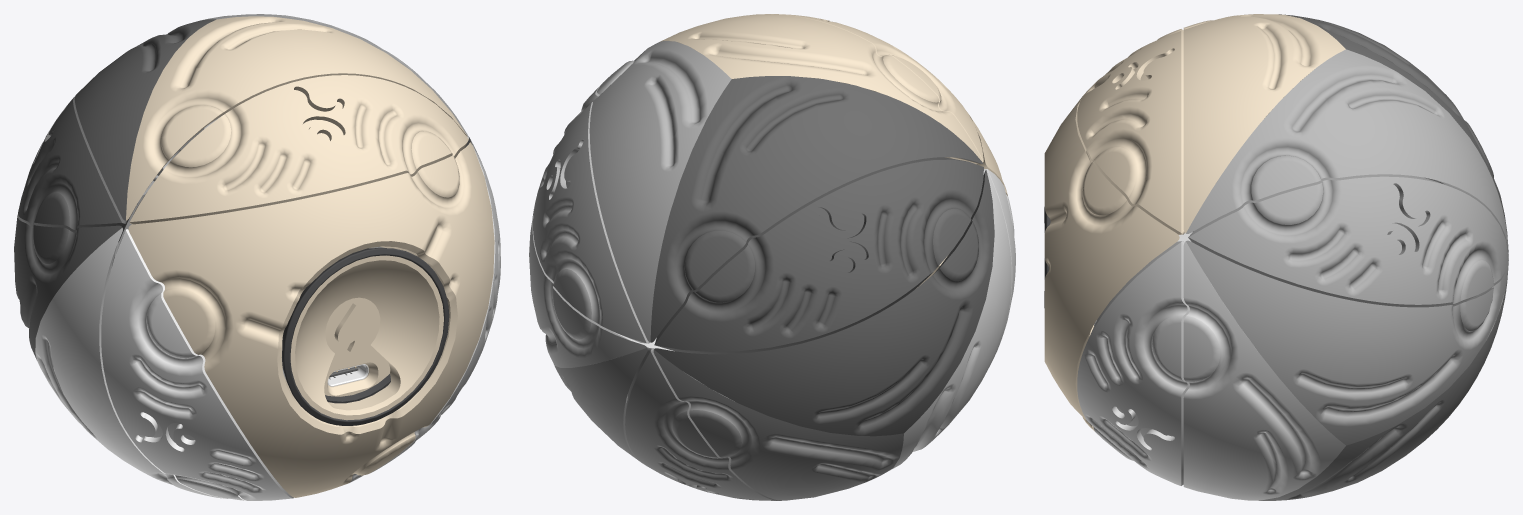
Rendered from OMGO-Sphere-Demo.gltf.
3 views of the same model, side by side, from view 1: azimuth 30°, elevation 25°; view 2: azimuth 150°, elevation 25°; view 3: azimuth 270°, elevation 25° (orthographic).
Parts seen in each view (by area): view 1: Colour1_C1S, Colour1_E14S, Colour3_E12S, Colour1_C4S, Colour1_CoreFS, Colour3_C2S, Colour4_C4S, Colour4_E24S, Colour4_C2S, CoreFrontRing, Colour2_E13S, Colour5_C4S; view 2: Colour4_E24S, Colour4_C4S, Colour4_C2S, Colour5_C4S, Colour6_C2S, Colour1_C4S, Colour5_E34S, Colour6_E23S, Colour3_C2S, Colour5_C3S, Colour6_C3S, Colour1_E14S (+2 smaller); view 3: Colour5_E34S, Colour5_C3S, Colour5_C4S, Colour2_C3S, Colour1_C1S, Colour2_E13S, Colour1_C4S, Colour1_E14S, Colour6_C3S, Colour4_C4S.
Part boxes in pixels (box(x1,y1,x2,y2)): Colour1_C1S: box(128, 142, 494, 497); Colour1_E14S: box(129, 75, 468, 224); Colour3_E12S: box(101, 229, 293, 500); Colour1_C4S: box(126, 16, 467, 220); Colour1_CoreFS: box(290, 255, 443, 420); Colour3_C2S: box(35, 228, 246, 500); Colour4_C4S: box(74, 19, 216, 220); Colour4_E24S: box(18, 96, 137, 242); Colour4_C2S: box(14, 214, 122, 359); CoreFrontRing: box(282, 248, 449, 425); Colour2_E13S: box(350, 145, 500, 482); Colour5_C4S: box(202, 14, 467, 136); Colour4_E24S: box(654, 157, 983, 354); Colour4_C4S: box(650, 76, 982, 342); Colour4_C2S: box(654, 170, 994, 436); Colour5_C4S: box(589, 41, 731, 342); Colour6_C2S: box(653, 350, 903, 500); Colour1_C4S: box(660, 14, 982, 162); Colour5_E34S: box(533, 82, 649, 343); Colour6_E23S: box(625, 347, 781, 500); Colour3_C2S: box(887, 170, 1011, 471); Colour5_C3S: box(529, 206, 646, 367); Colour6_C3S: box(554, 348, 647, 463); Colour1_E14S: box(765, 14, 983, 164); Colour5_E34S: box(1188, 174, 1508, 307); Colour5_C3S: box(1186, 240, 1508, 445); Colour5_C4S: box(1186, 49, 1508, 253); Colour2_C3S: box(1183, 241, 1345, 500); Colour1_C1S: box(1044, 94, 1179, 431); Colour2_E13S: box(1077, 241, 1189, 485); Colour1_C4S: box(1183, 14, 1345, 233); Colour1_E14S: box(1077, 29, 1184, 234); Colour6_C3S: box(1259, 263, 1508, 500); Colour4_C4S: box(1279, 14, 1508, 251).
Bounding box in the file's own units: 0.0919 × 0.092 × 0.0876.
